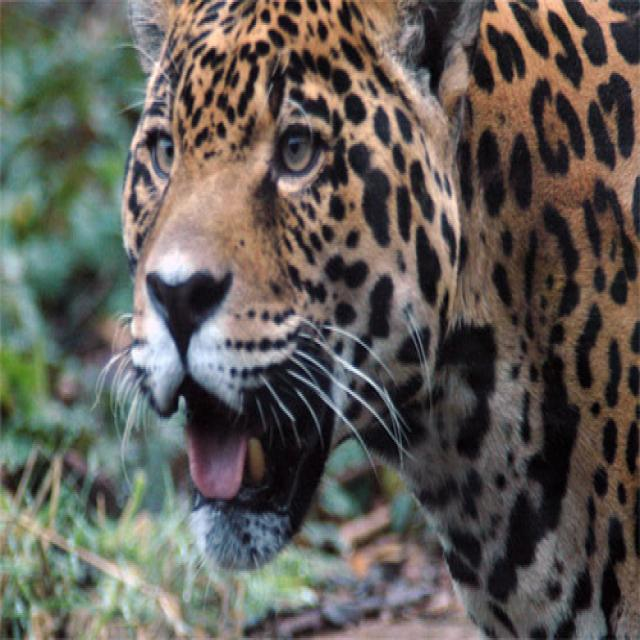Leopard: (82, 0, 637, 634)
